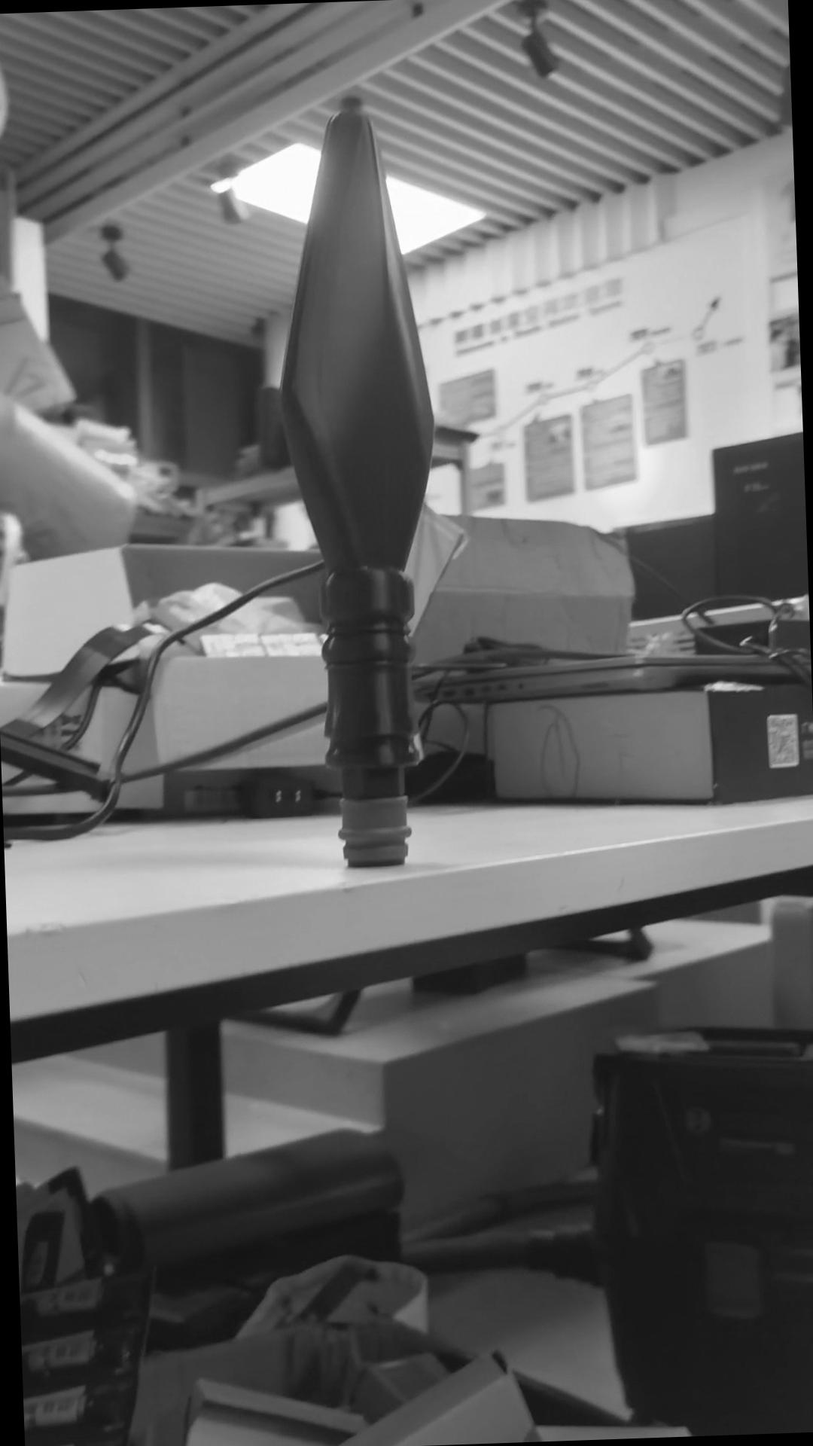base: (331, 788, 418, 868)
